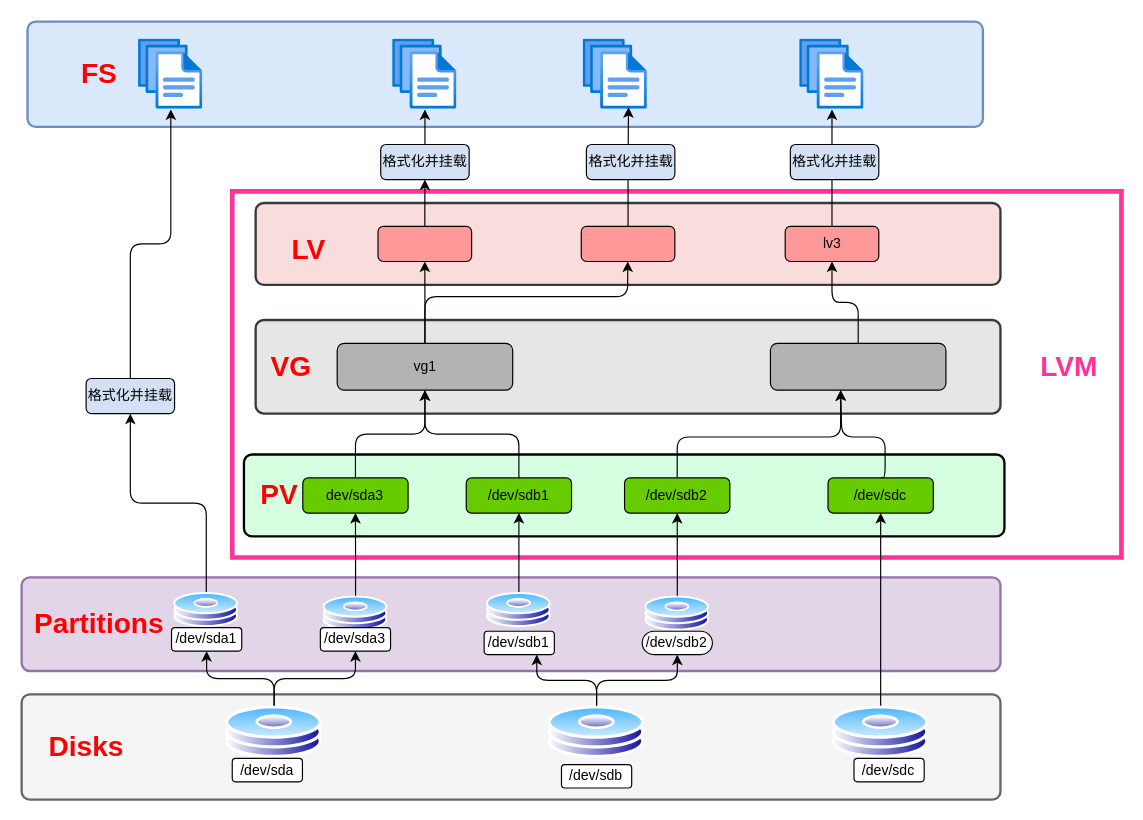
Image size: 1143x820. Some labels were removed from this diagram. Here are the shapes that lost their labels. From the top down, the centre of each, then its label:
At [424,243]: "lv_backup".
At [627,243]: "lv2".
At [857,366]: "vg2".
